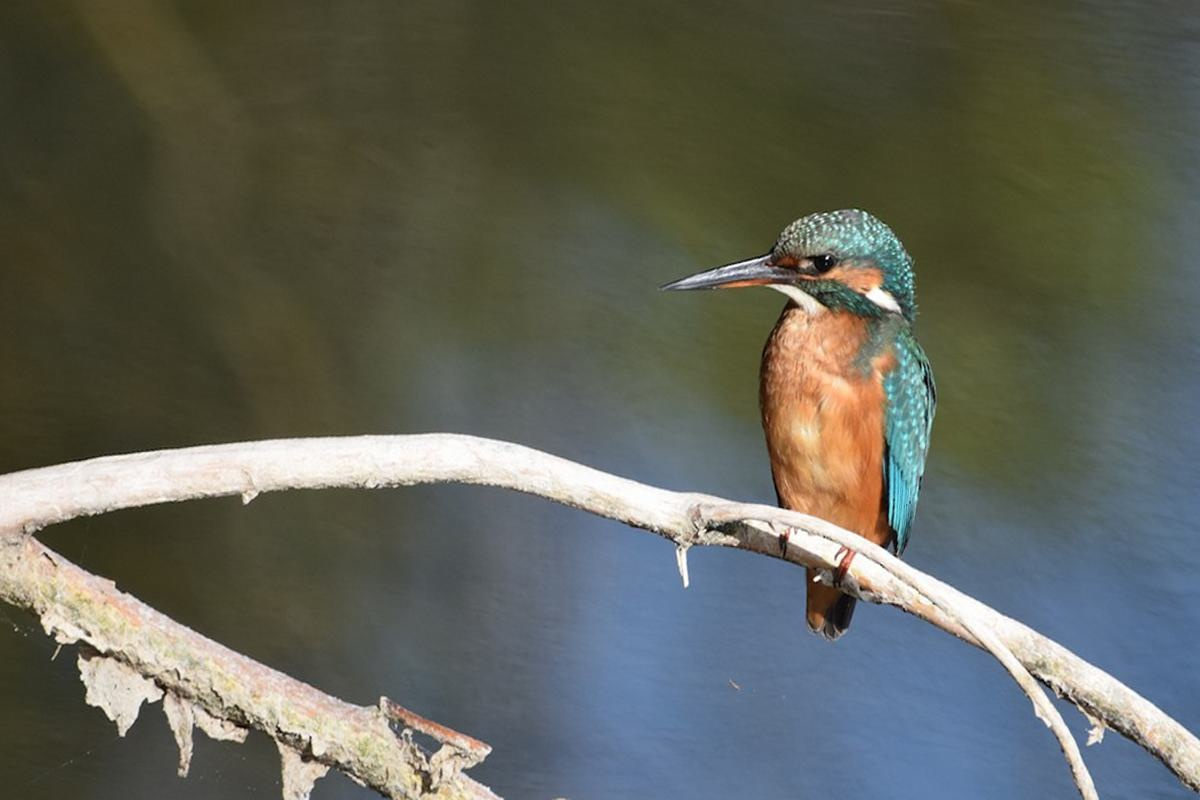kingfisher: (656, 187, 947, 662)
